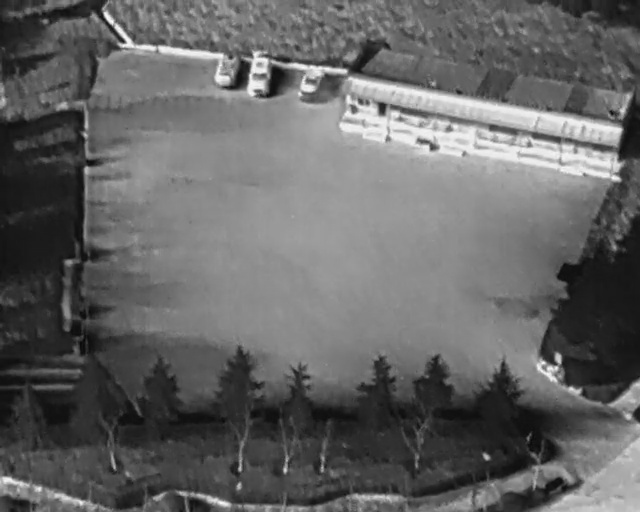Car: (294, 64, 330, 106), (246, 52, 275, 100), (211, 48, 241, 89)
